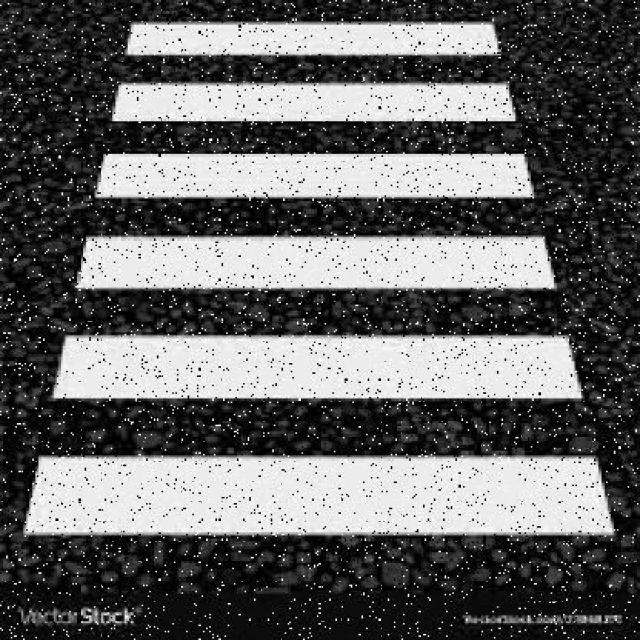intact_crosswalk: (6, 2, 628, 607)
